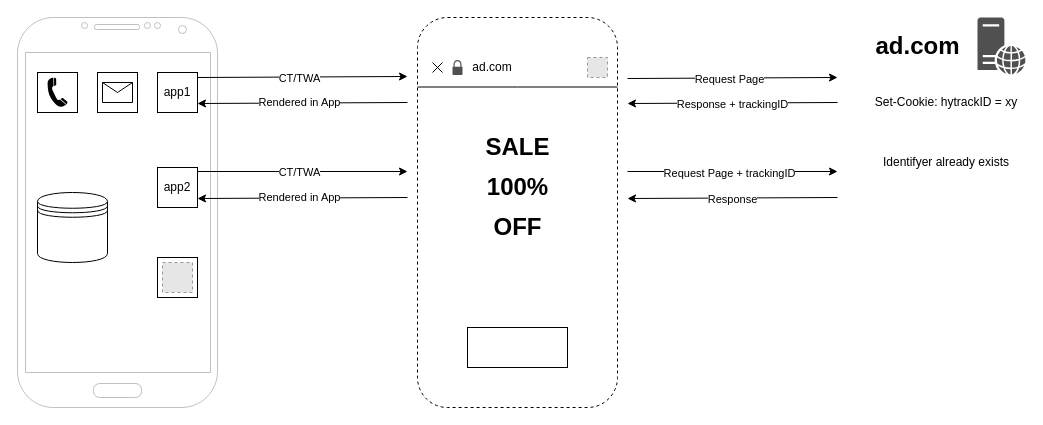
The diagram is 1043 pixels wide and 425 high, and some of its shapes have lost their labels. Grey dashed boxes stand in for pictures. The shapes that lost their labels are listed below. From the top down, each one's centre as x and y in pixels, then its label:
pixel 72 227: Shared Preferences
pixel 517 347: BACK
